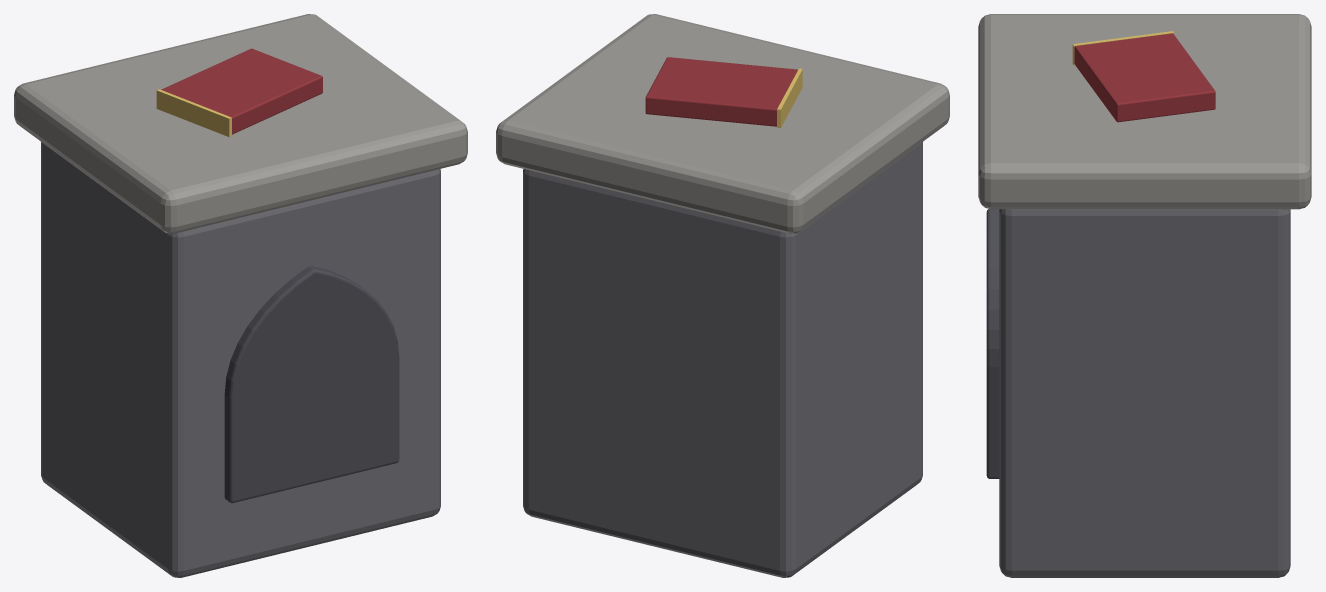
Rendered from lectern_stone_pulpit.glb.
The picture shows the model from 3 angles, left to right: view 1: azimuth 30°, elevation 25°; view 2: azimuth 150°, elevation 25°; view 3: azimuth 270°, elevation 25°; orthographic projection. The views are drawn at different scales.
Parts seen in each view (by area): view 1: GD_lectern_stone_pulpit__m0, GD_lectern_stone_pulpit__m1, GD_lectern_stone_pulpit__m2, GD_lectern_stone_pulpit__m3, GD_lectern_stone_pulpit__m5; view 2: GD_lectern_stone_pulpit__m0, GD_lectern_stone_pulpit__m1, GD_lectern_stone_pulpit__m3, GD_lectern_stone_pulpit__m5; view 3: GD_lectern_stone_pulpit__m0, GD_lectern_stone_pulpit__m1, GD_lectern_stone_pulpit__m3, GD_lectern_stone_pulpit__m2.
Boxes of the visible parts, x1,y1,x2,y2 form: GD_lectern_stone_pulpit__m0: (41,142,440,577); GD_lectern_stone_pulpit__m1: (14,14,467,233); GD_lectern_stone_pulpit__m2: (224,266,399,503); GD_lectern_stone_pulpit__m3: (161,48,322,134); GD_lectern_stone_pulpit__m5: (156,89,231,137); GD_lectern_stone_pulpit__m0: (523,142,922,577); GD_lectern_stone_pulpit__m1: (496,14,949,233); GD_lectern_stone_pulpit__m3: (645,57,797,126); GD_lectern_stone_pulpit__m5: (777,68,802,127); GD_lectern_stone_pulpit__m0: (999,209,1290,577); GD_lectern_stone_pulpit__m1: (978,14,1311,209); GD_lectern_stone_pulpit__m3: (1074,33,1215,122); GD_lectern_stone_pulpit__m2: (986,209,999,478).
Bounding box in the file's own units: 0.9 × 1.18 × 0.8.
